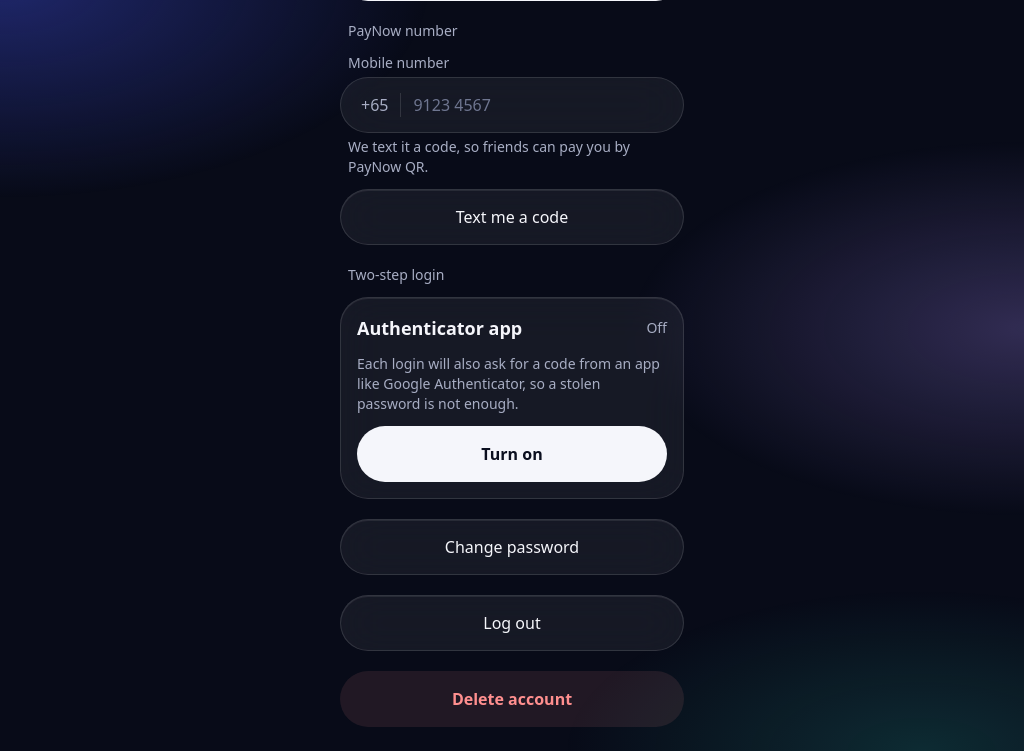
Scenario: Profile: delete account (KAN-93) › says what happens, needs the password, then logs out with a notice
(page scrolled)
Click the button "Delete account".
click(512, 699)  # box top-left (340, 671), bottom-right (684, 727)
(page scrolled)
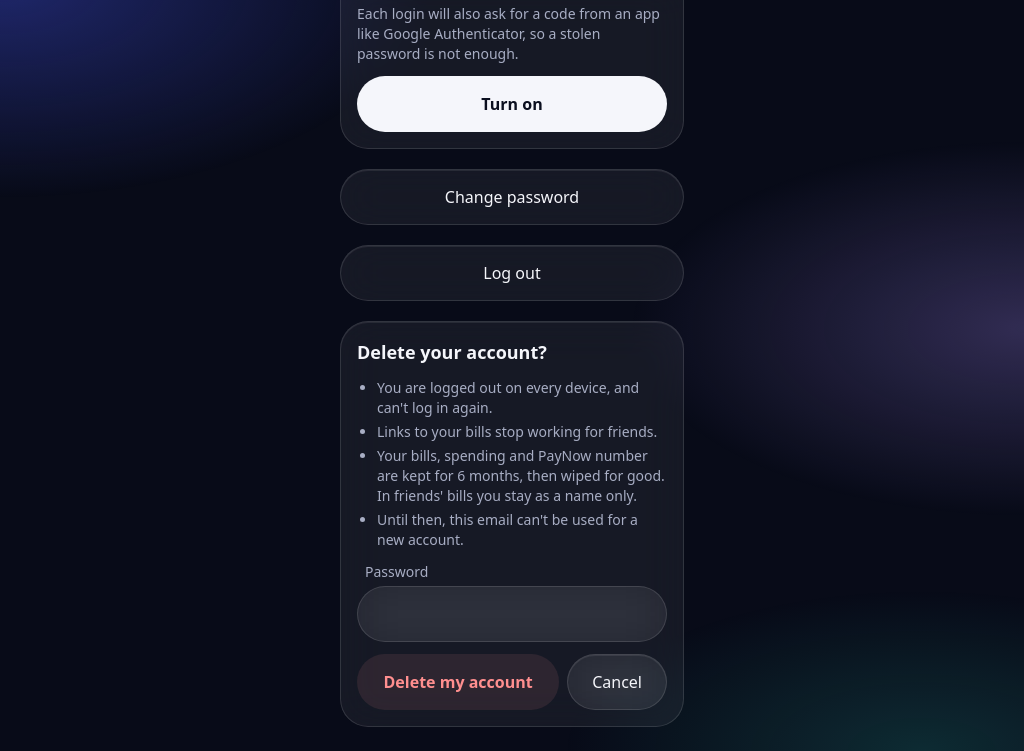
Check: the list item "kept for 6 months, then wiped for good" is shown, box top-left (377, 446), bottom-right (665, 505)
Click the button "Delete my account".
click(458, 682)  # box top-left (357, 654), bottom-right (559, 710)
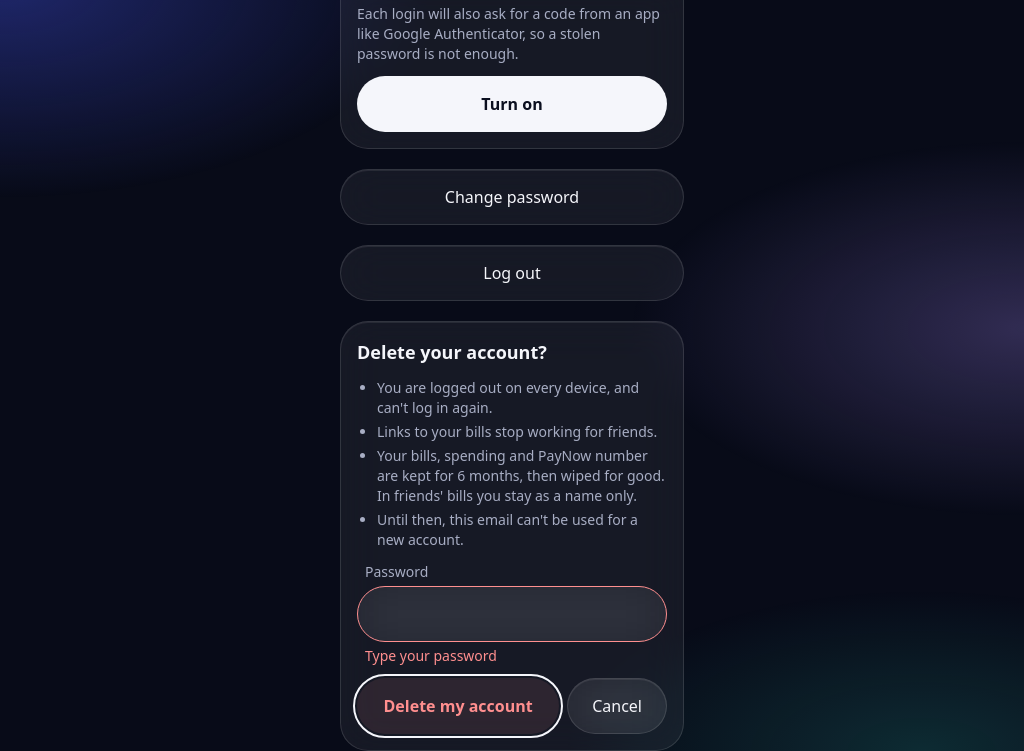
Check: the text "Type your password" is shown, box top-left (365, 646), bottom-right (497, 665)
Type "correct horse" into the password field labelled "Password".
click(512, 614); type("correct horse")  # box top-left (357, 586), bottom-right (667, 642)
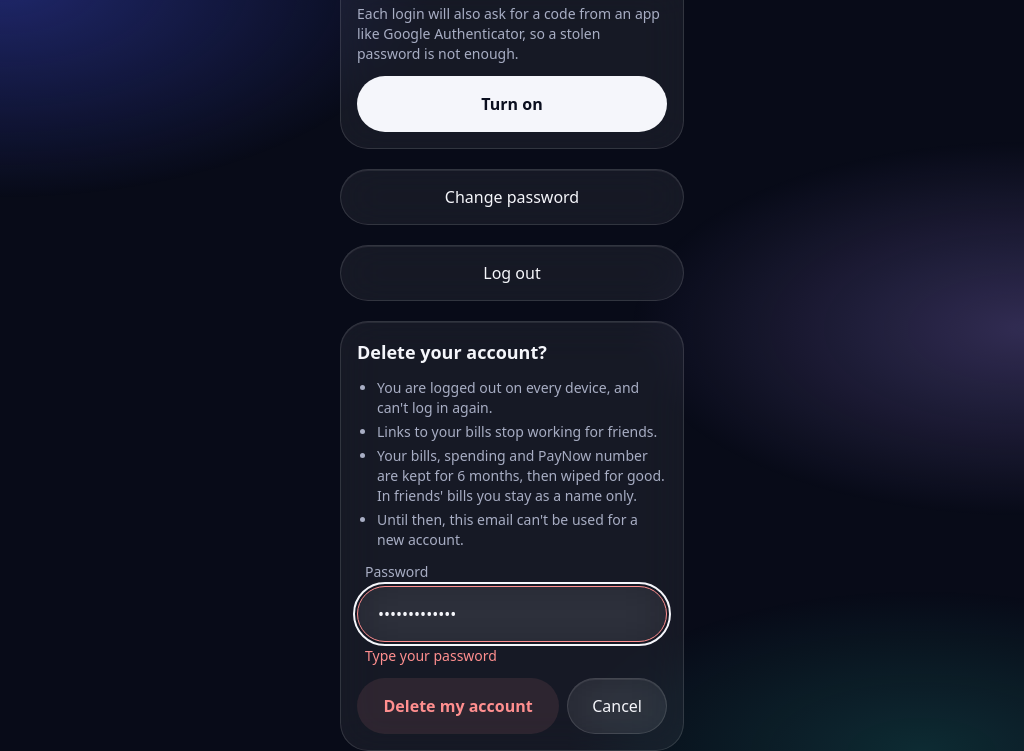
Click the button "Delete my account".
click(458, 706)  # box top-left (357, 678), bottom-right (559, 734)
(page scrolled)
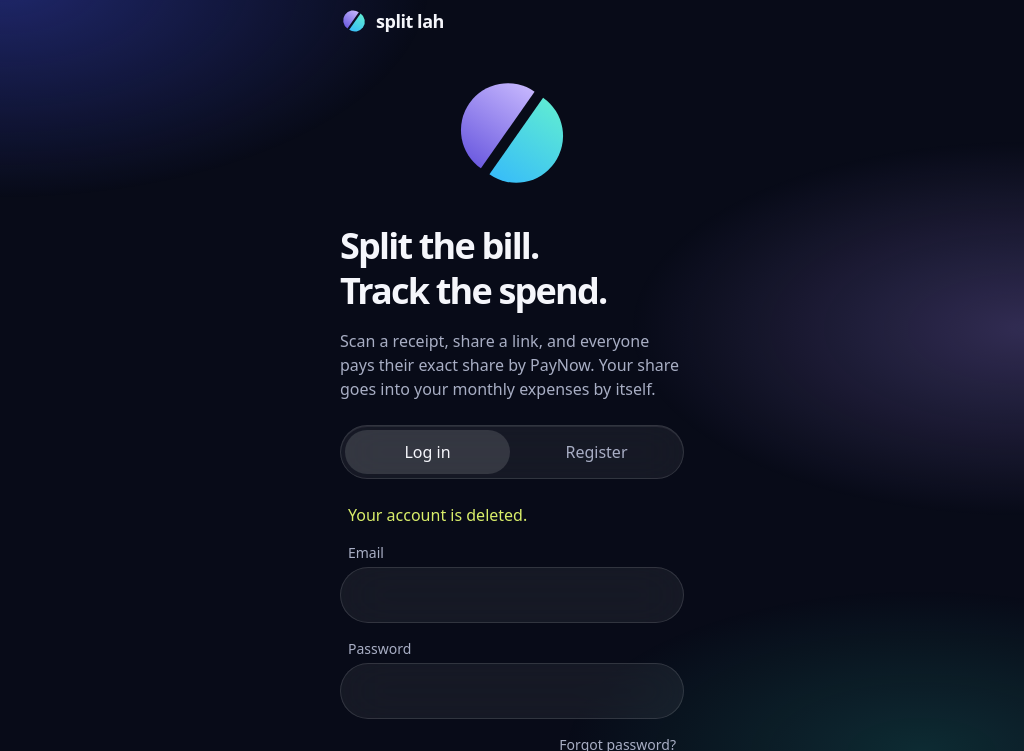
Check: the message reads "Your account is deleted.", box top-left (348, 504), bottom-right (527, 526)
Check: the field labelled "Email" is shown, box top-left (340, 567), bottom-right (684, 623)
